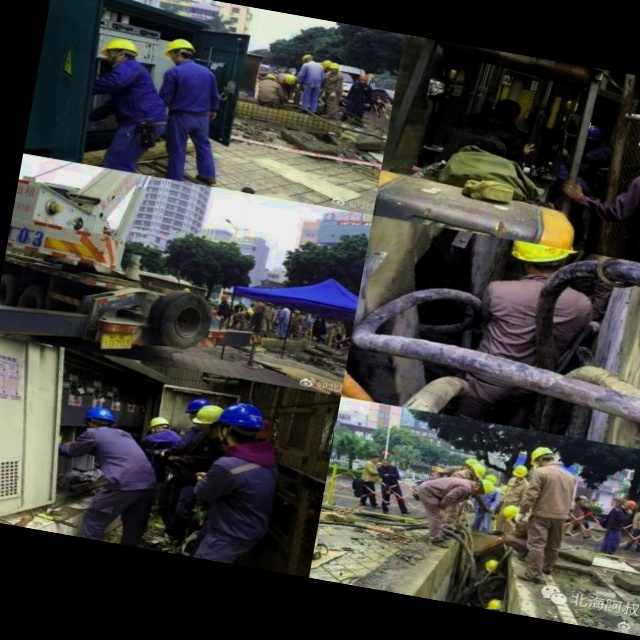Con_Casco: (99, 34, 140, 65), (165, 36, 199, 62), (638, 125, 640, 164)
Sin_Chaleco: (162, 60, 223, 116), (626, 163, 640, 259)
